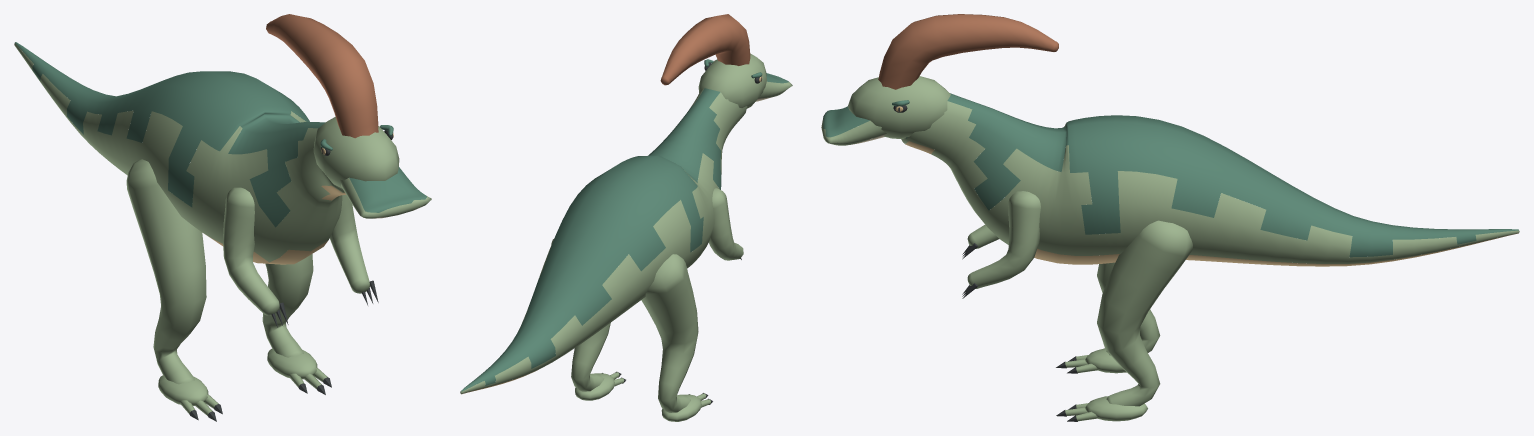
File: primeval-frontier-parasaurolophus-86ec468b__1703.glb
The picture shows the model from 3 angles, left to right: view 1: azimuth 30°, elevation 25°; view 2: azimuth 150°, elevation 25°; view 3: azimuth 270°, elevation 25°; orthographic projection. The views are drawn at different scales.
Visible parts, largest first — view 1: parasaurolophus; view 2: parasaurolophus; view 3: parasaurolophus.
Boxes of the visible parts, x1=… form: parasaurolophus: x1=14, y1=14, x2=431, y2=421; parasaurolophus: x1=460, y1=14, x2=792, y2=421; parasaurolophus: x1=821, y1=14, x2=1519, y2=421.
Size of the model in its own units: 1.74 by 4.2 by 7.
